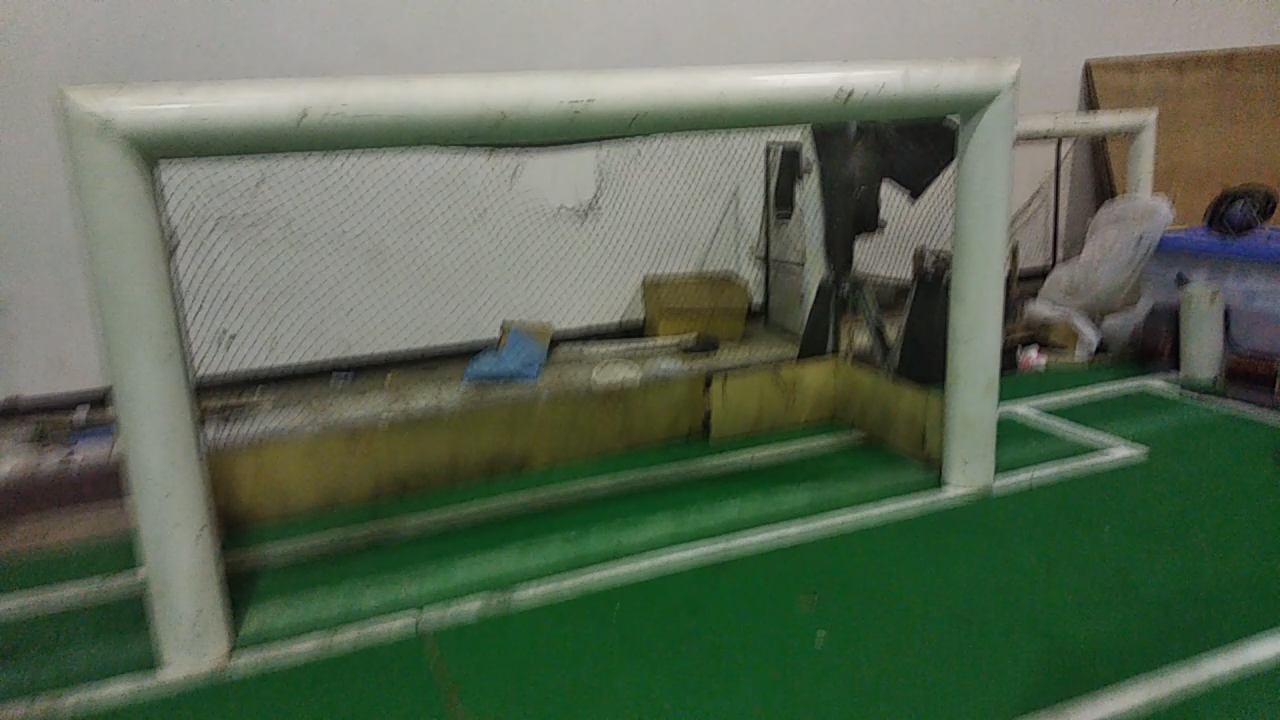gawang: (33, 44, 1043, 693)
